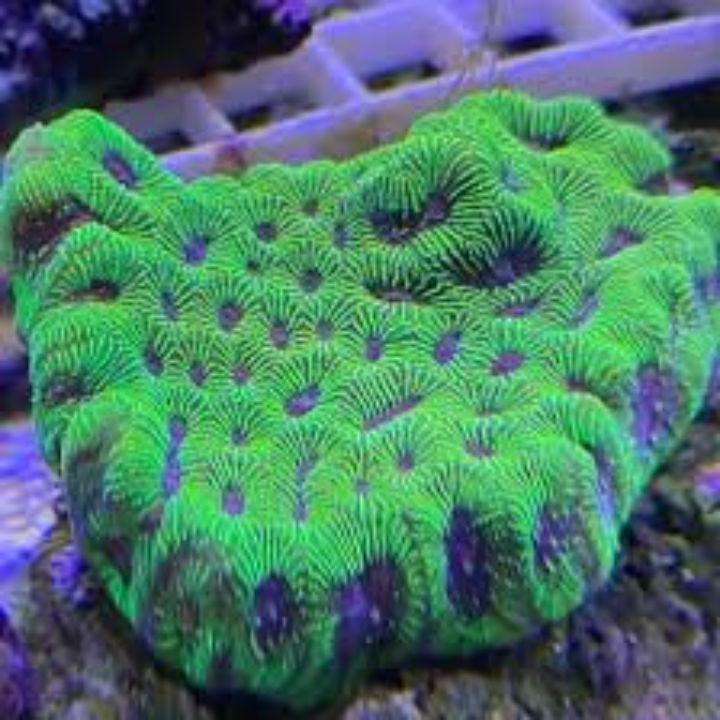Healthy Coral: (19, 94, 677, 647)
